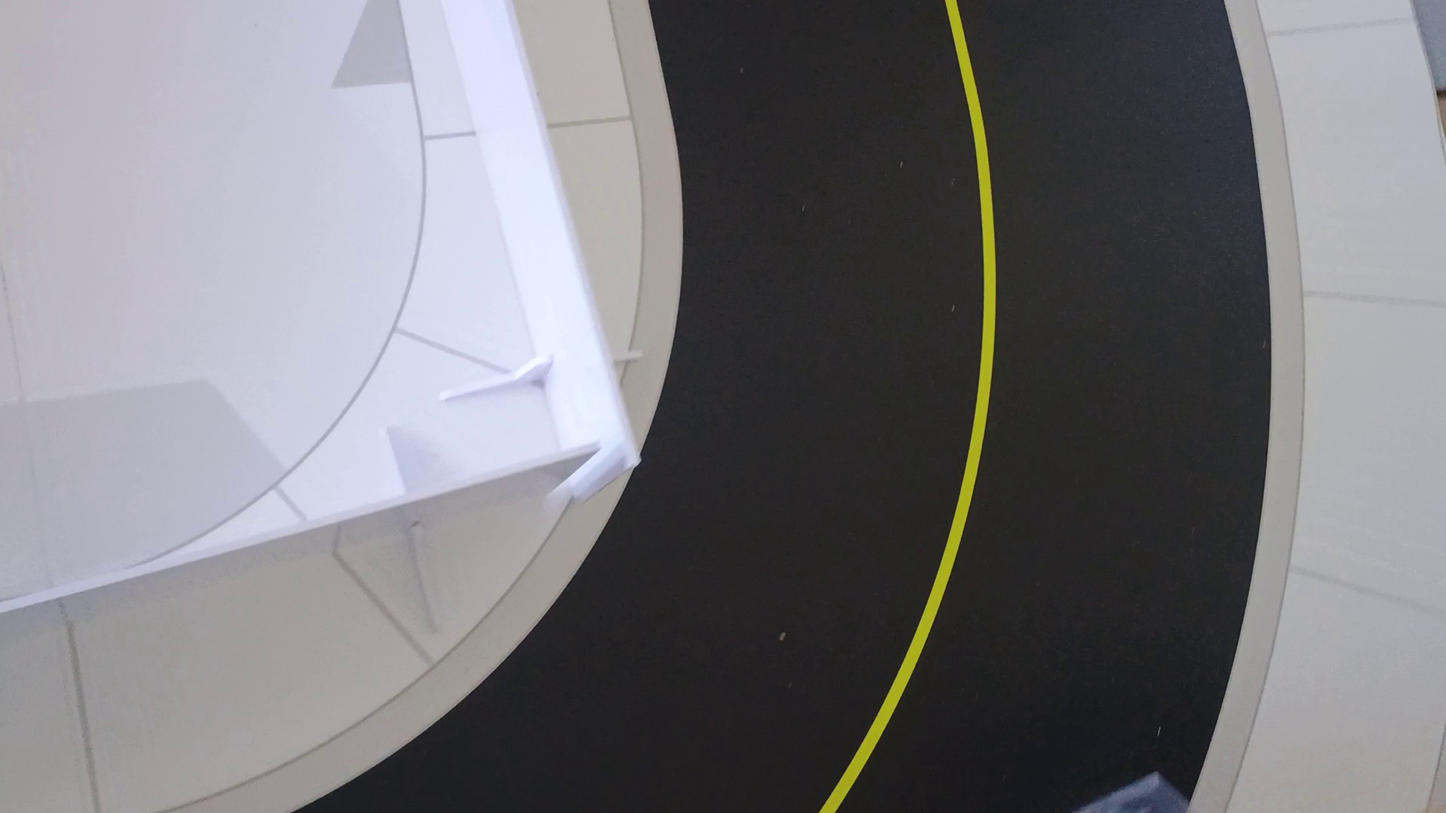Solid: (819, 0, 996, 812)
Street: (304, 0, 1286, 812)
